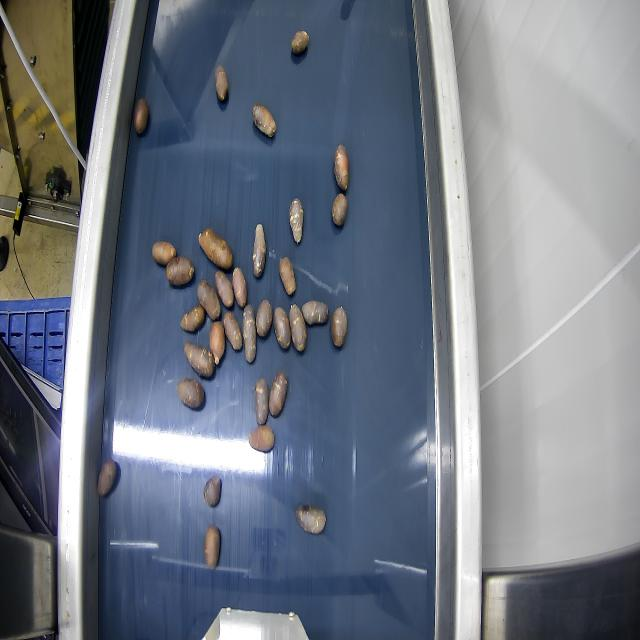Baby Potato: (198, 228, 233, 270), (185, 341, 215, 378), (296, 503, 326, 535), (198, 280, 221, 321), (268, 370, 288, 417), (165, 255, 195, 285), (176, 378, 204, 410), (289, 303, 307, 352), (96, 458, 118, 497), (222, 310, 242, 352), (252, 102, 276, 137), (203, 524, 221, 569), (214, 268, 234, 308), (252, 222, 266, 278), (333, 143, 349, 191), (242, 305, 256, 359), (330, 305, 347, 348), (301, 299, 329, 325), (248, 424, 274, 452), (288, 198, 304, 243), (209, 319, 225, 364), (274, 306, 290, 350), (254, 377, 268, 427), (279, 256, 296, 296), (151, 239, 176, 266), (181, 304, 205, 332), (203, 473, 221, 508), (256, 298, 272, 337), (133, 96, 149, 134), (232, 266, 246, 308), (331, 192, 347, 227), (214, 64, 228, 100), (291, 30, 309, 54)
